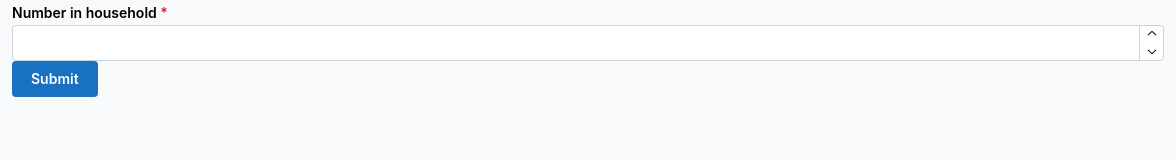
Scenario: ControlledNumberInput › keeps an out-of-range number on screen instead of quietly rewriting it
Type "0" into the field labelled "Number in household *" at (588, 43), box [12, 25, 1164, 61]
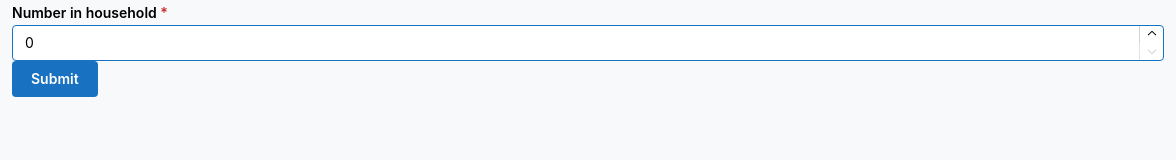
Press Tab
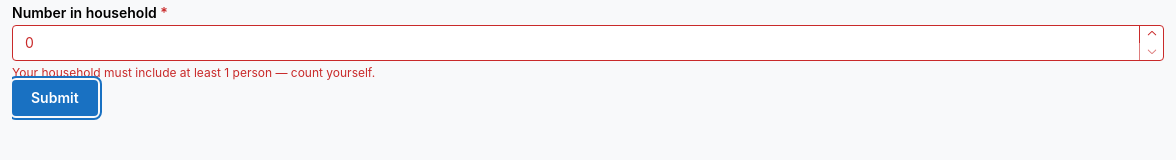
Result: the text "at least 1 person" is shown at [12, 65, 375, 80]
